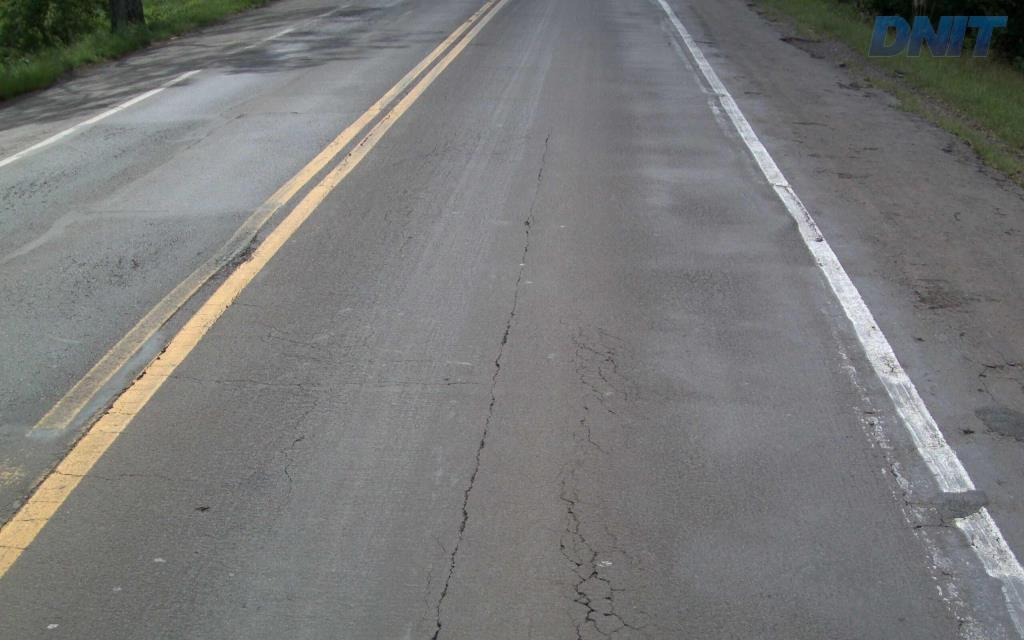crack: (572, 575, 607, 635)
